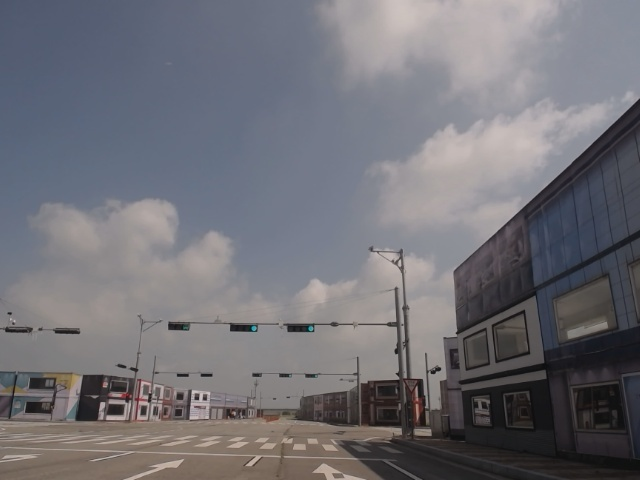straight_green_4: (286, 323, 316, 332), (231, 323, 258, 331)
